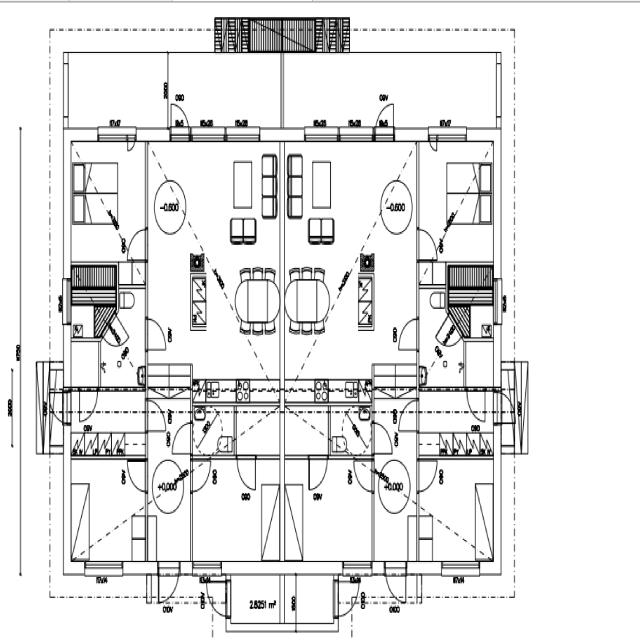door: (142, 313, 170, 354), (334, 576, 360, 618), (384, 563, 408, 606), (415, 455, 440, 495), (396, 314, 421, 354), (156, 564, 181, 604), (205, 576, 228, 618), (168, 100, 192, 140), (235, 452, 257, 494), (125, 456, 149, 494), (190, 455, 213, 494), (126, 224, 150, 261), (374, 101, 396, 141), (352, 455, 374, 494), (307, 453, 328, 493), (414, 226, 438, 260), (144, 398, 167, 432), (465, 387, 487, 422), (398, 397, 419, 433), (170, 420, 192, 454), (371, 420, 393, 454), (78, 388, 99, 421), (124, 127, 138, 157), (427, 129, 441, 156)
window: (189, 120, 262, 146), (336, 122, 376, 145), (302, 122, 339, 145), (95, 124, 129, 144), (84, 559, 125, 573), (441, 560, 477, 574)
zone: (191, 455, 281, 564), (70, 138, 146, 262), (284, 457, 372, 564), (419, 132, 495, 252), (416, 458, 496, 566), (68, 457, 148, 565), (421, 388, 489, 458), (100, 309, 146, 391), (286, 274, 326, 344), (282, 404, 329, 458), (234, 402, 280, 457), (191, 403, 235, 456), (329, 404, 373, 457), (464, 338, 496, 389)
